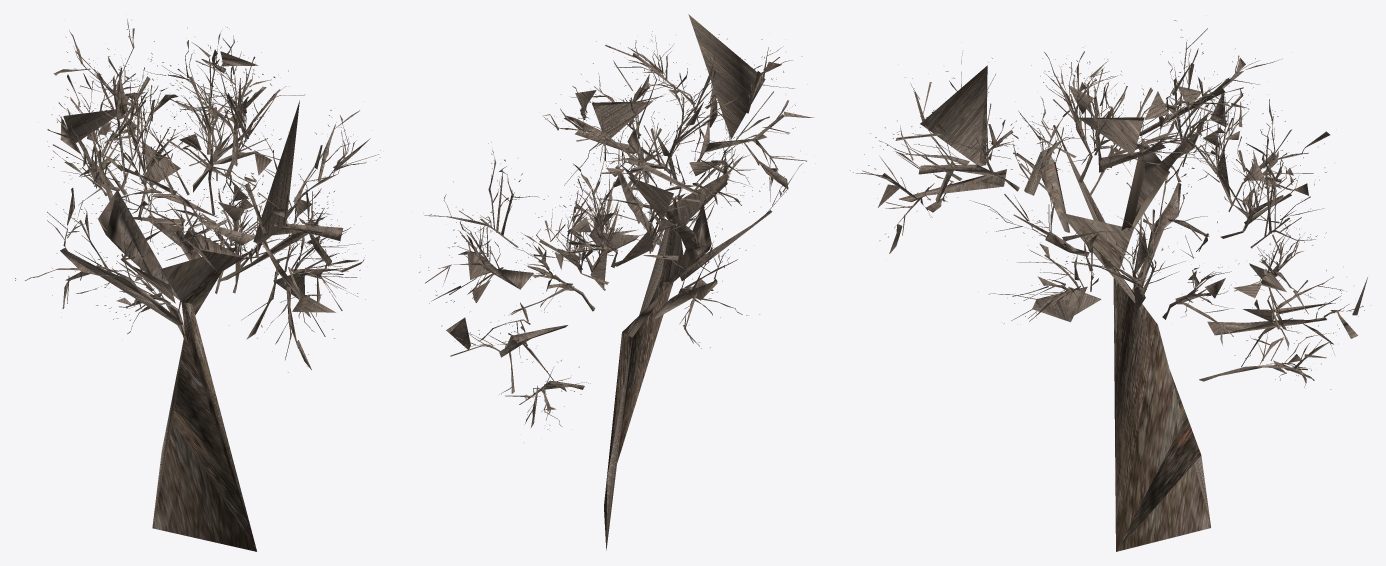
File: broadleaf.glb
3 renders of one model, left to right at view 1: azimuth 30°, elevation 25°; view 2: azimuth 150°, elevation 25°; view 3: azimuth 270°, elevation 25°, orthographic. The views are drawn at different scales.
Visible parts, largest first — view 1: tree_small_02_LOD0 baked baked; view 2: tree_small_02_LOD0 baked baked; view 3: tree_small_02_LOD0 baked baked.
Part boxes in pixels (x1=…): tree_small_02_LOD0 baked baked: x1=15, y1=19, x2=380, y2=551; tree_small_02_LOD0 baked baked: x1=419, y1=14, x2=814, y2=550; tree_small_02_LOD0 baked baked: x1=850, y1=20, x2=1367, y2=551.
Size of the model in its own units: 2.7 by 4.19 by 4.17.
3 materials, 3 textured.
